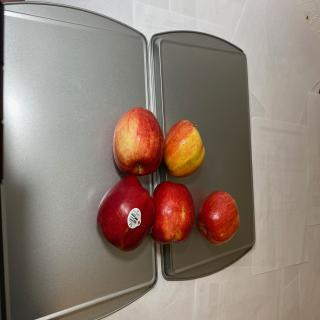Apple: (96, 175, 155, 252), (112, 106, 164, 176), (150, 181, 195, 244), (163, 119, 205, 178), (197, 190, 240, 246)
